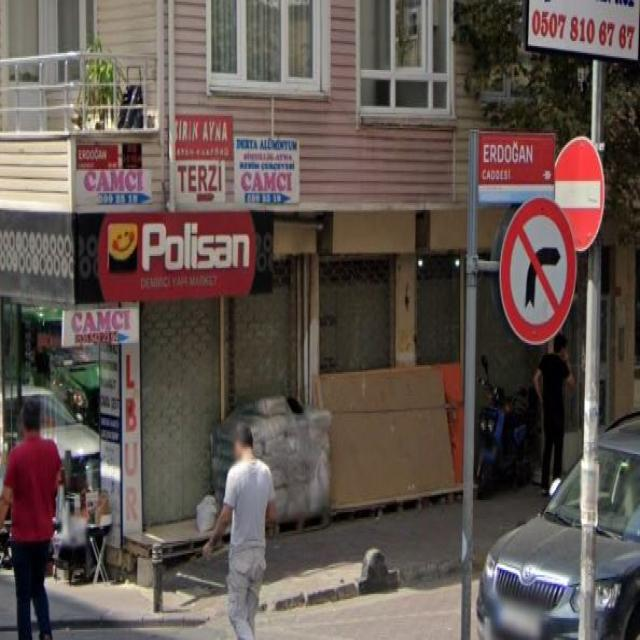girisyok: (550, 134, 601, 252)
sagadonulmez: (500, 196, 577, 343)
